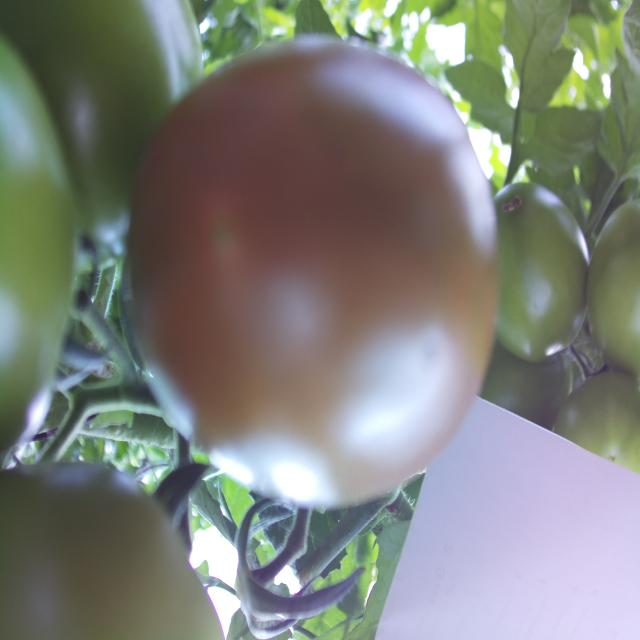sari: (89, 19, 476, 501)
